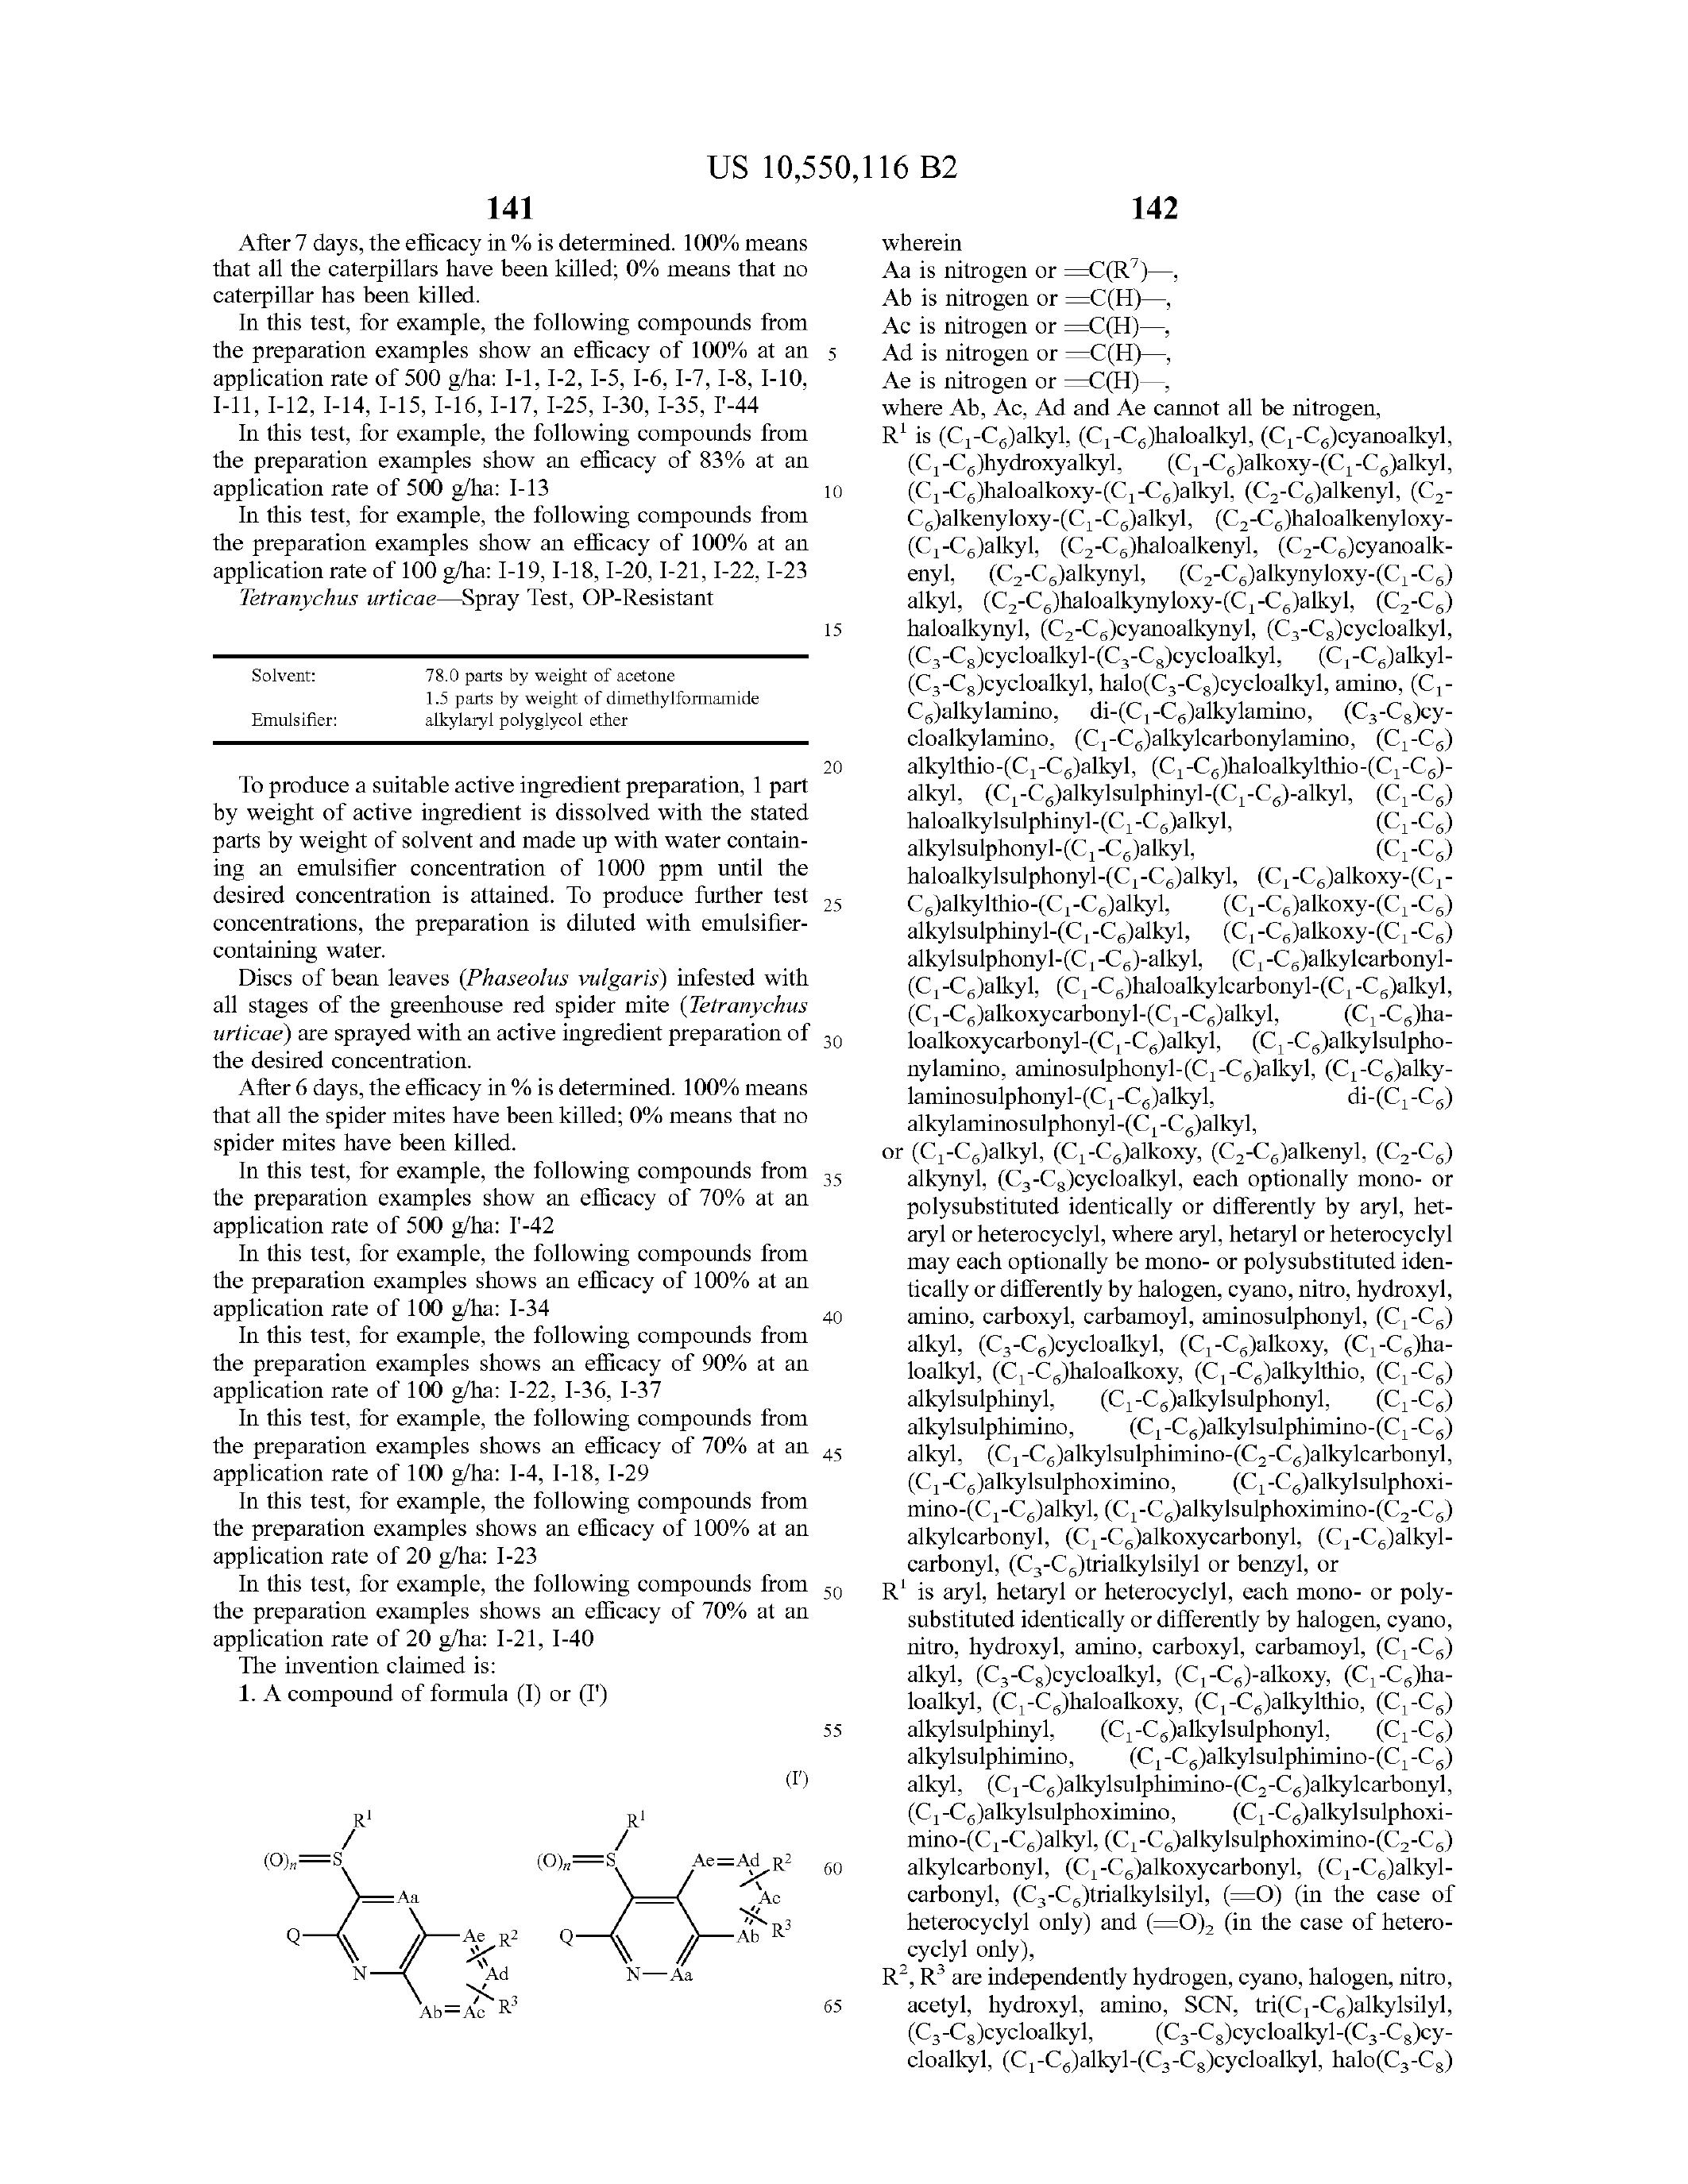markush-structures: (234, 1780, 525, 2071), (534, 1774, 810, 2035)
